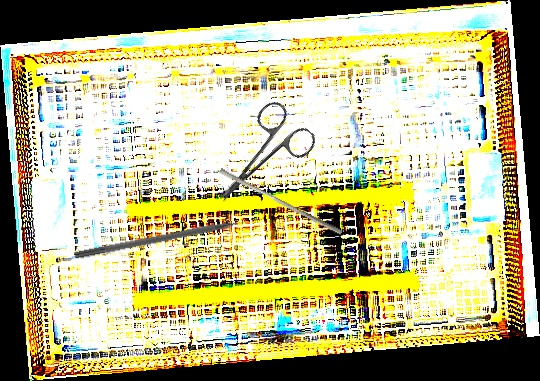Iris Scissors: (196, 96, 321, 221)
Pusher: (73, 214, 265, 262), (217, 167, 345, 236)
